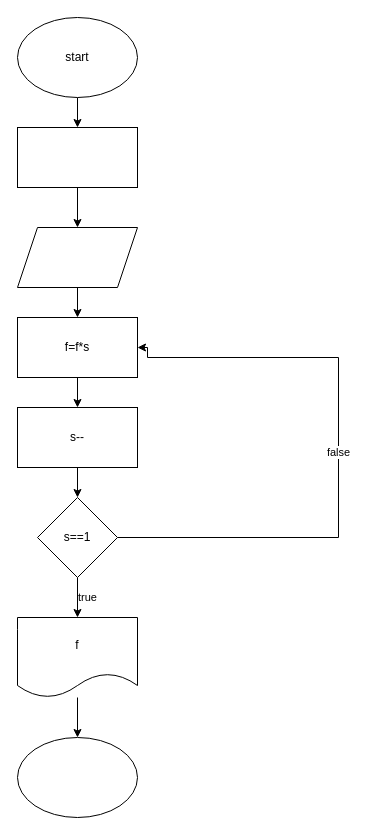
Some shapes in this 367 by 835 pixel diagram are drawn without their labels. Here are the shapes that lost their labels. From the top down, the centre of each, then its label:
point (77, 157): sayi==s fak==f fak==1
point (77, 257): s'yi giriniz
point (77, 777): finish
